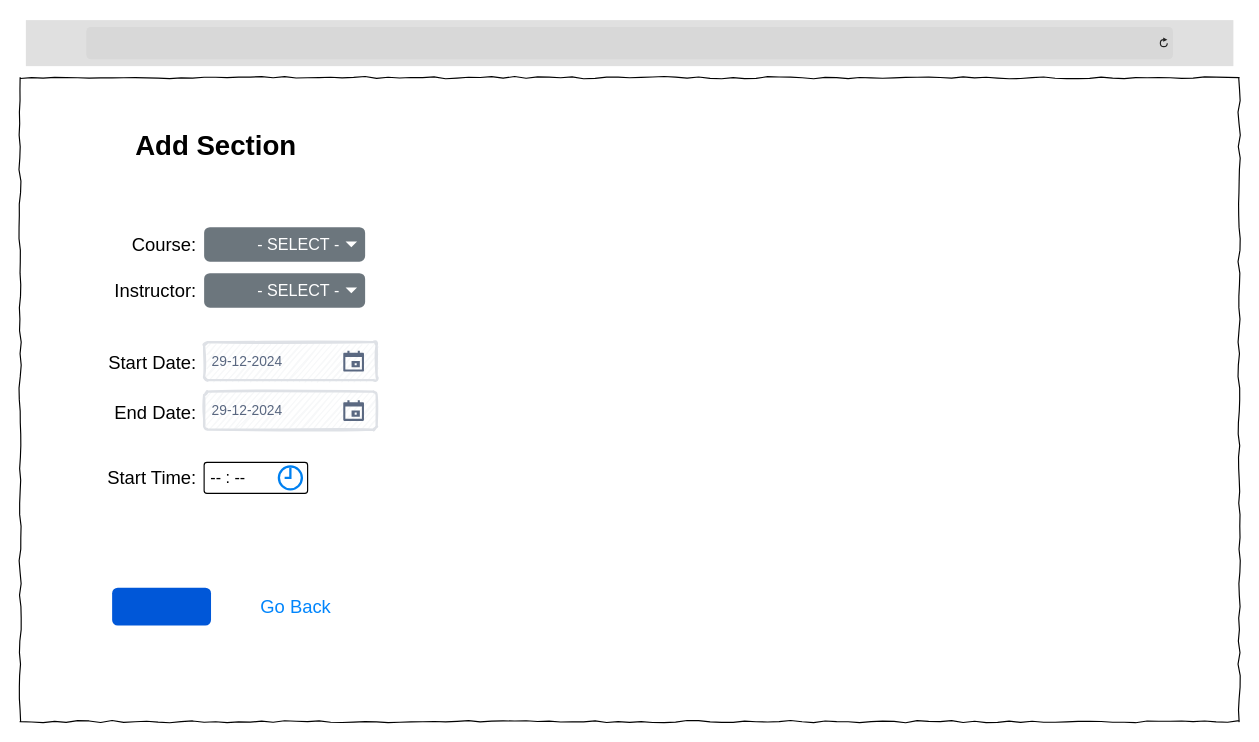
The diagram is 1259 pixels wide and 742 high, and some of its shapes have lost their labels. The centre of each missing label's shape, as x and y in pixels:
fourthwallacademy.com/Sections/Add: the point at 629,42
Save: the point at 161,606
